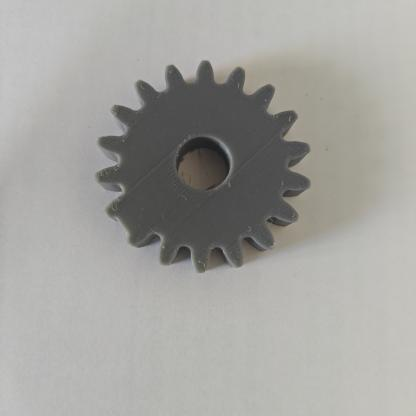defect: (95, 188, 161, 254)
gear: (75, 51, 332, 291)
